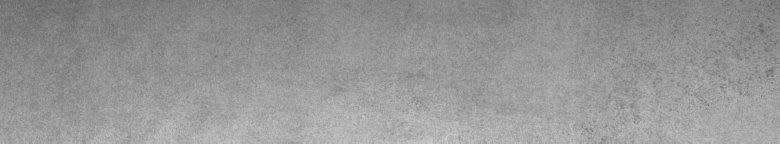ib: (581, 24, 776, 132)
